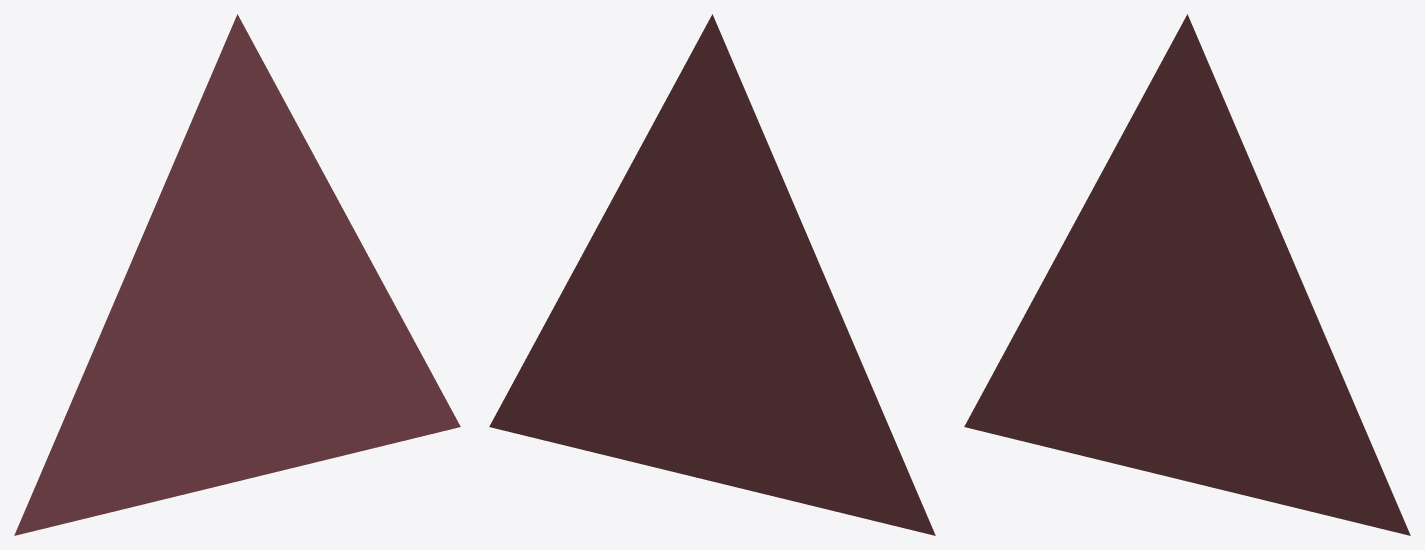
Rendered from reference.glb.
3 views of the same model, side by side, from view 1: azimuth 30°, elevation 25°; view 2: azimuth 150°, elevation 25°; view 3: azimuth 330°, elevation 25° (orthographic).
Parts seen in each view (by area): view 1: ReferenceTriangle-000; view 2: ReferenceTriangle-000; view 3: ReferenceTriangle-000.
Boxes of the visible parts, box(x1,y1,x2,y2) form: ReferenceTriangle-000: box(14, 14, 460, 535); ReferenceTriangle-000: box(489, 14, 935, 535); ReferenceTriangle-000: box(964, 14, 1410, 535).
Size of the model in its own units: 1.44 by 1.44 by 0.
2 materials, 2 textured.
